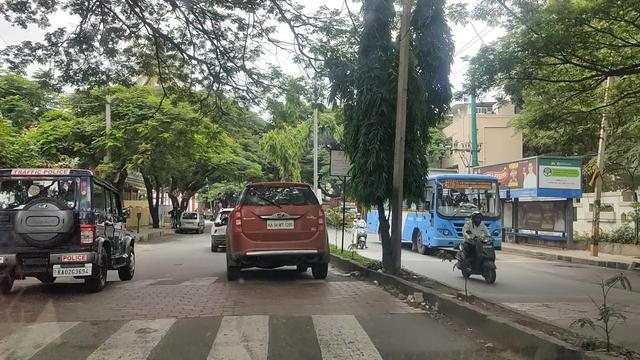LMV: (1, 170, 122, 287), (234, 182, 330, 281)
SpeedBump: (22, 321, 438, 360)
